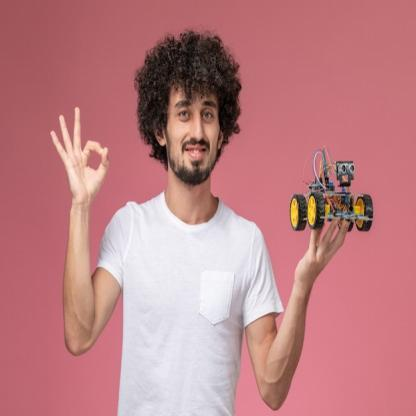stop: (48, 102, 114, 208)
